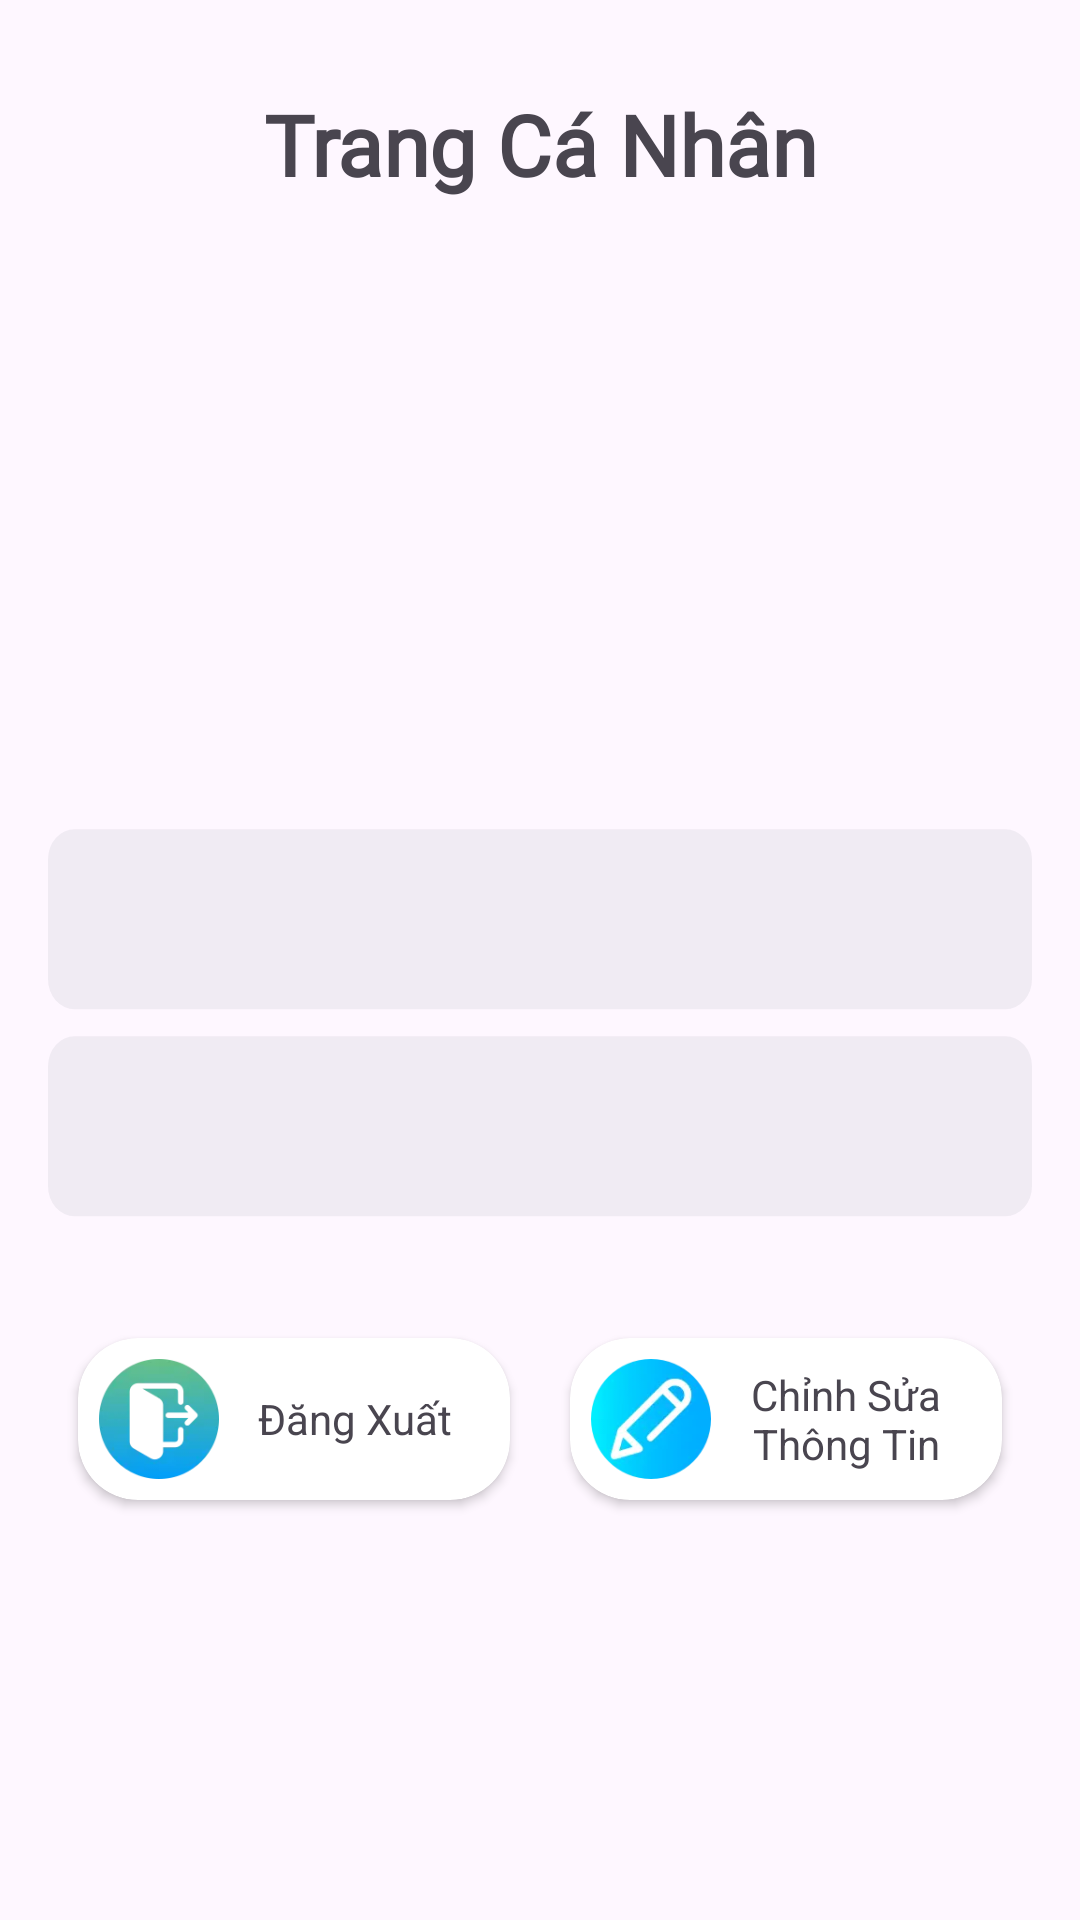

Named icons in this screenshot (1080×1920) and their centers, (x,y):
edit profile: (651,1419)
